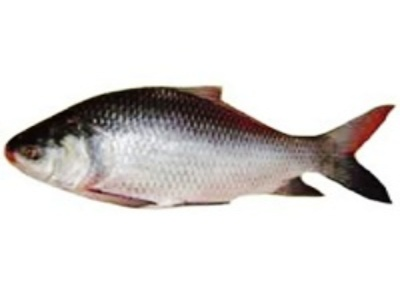rohu: (3, 74, 400, 219)
